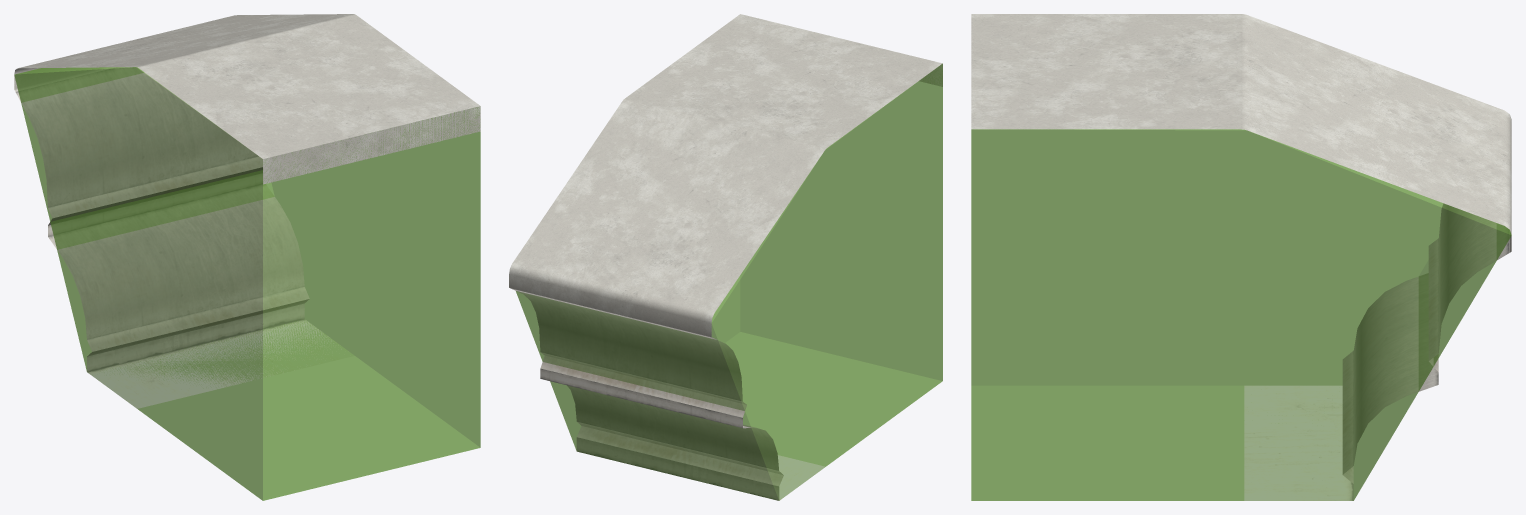
Rendered from F2_md_Roof_1m_01.fbx.
3 views of the same model, side by side, from view 1: azimuth 30°, elevation 25°; view 2: azimuth 150°, elevation 25°; view 3: azimuth 270°, elevation 25° (orthographic). The views are drawn at different scales.
Parts seen in each view (by area): view 1: F2_md_Roof_1m_01_col_01, F2_md_Roof_1m_01_LOD0; view 2: F2_md_Roof_1m_01_LOD0, F2_md_Roof_1m_01_col_01; view 3: F2_md_Roof_1m_01_col_01, F2_md_Roof_1m_01_LOD0.
Part boxes in pixels (x1,y1,x2,y2): F2_md_Roof_1m_01_col_01: [14, 67, 480, 500]; F2_md_Roof_1m_01_LOD0: [14, 14, 480, 408]; F2_md_Roof_1m_01_LOD0: [509, 14, 942, 500]; F2_md_Roof_1m_01_col_01: [516, 63, 942, 500]; F2_md_Roof_1m_01_col_01: [971, 129, 1511, 500]; F2_md_Roof_1m_01_LOD0: [971, 14, 1511, 500].
Size of what is drawn, in the model's own units: 100 by 150 by 198.
3 materials, 2 textured.
